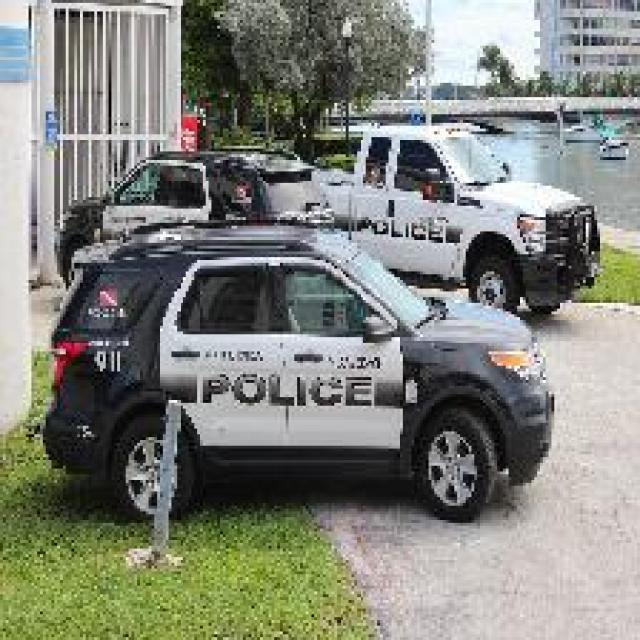emergency: (39, 221, 557, 525), (314, 120, 602, 318)
